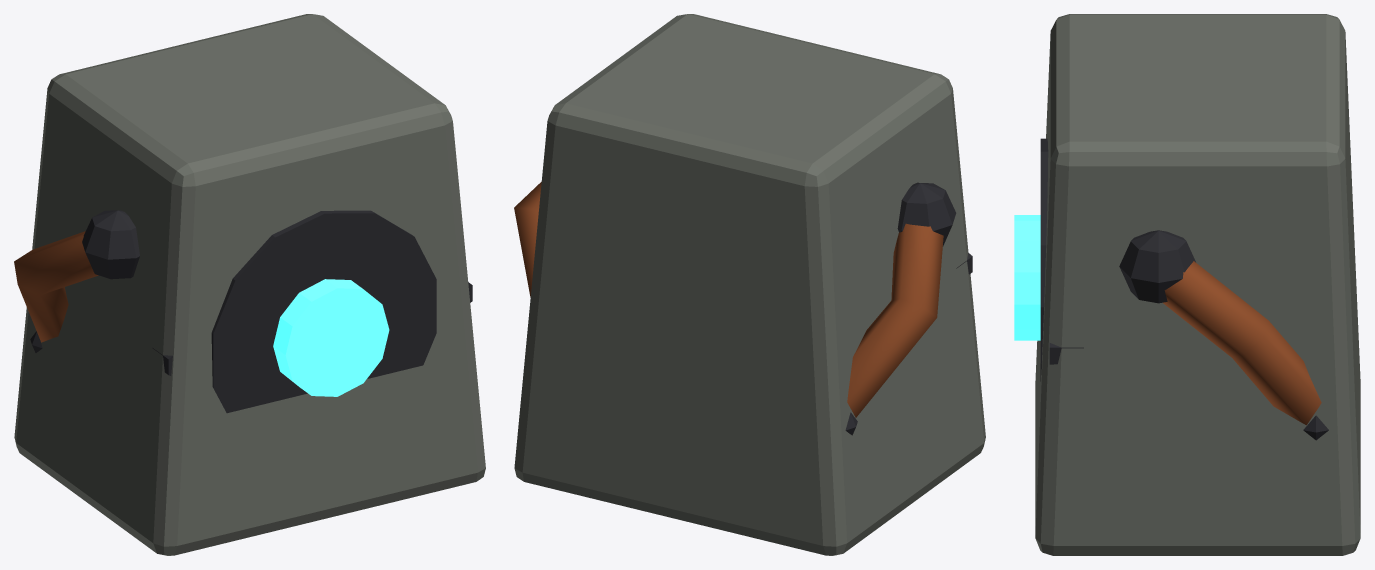
3 renders of one model, left to right at view 1: azimuth 30°, elevation 25°; view 2: azimuth 150°, elevation 25°; view 3: azimuth 270°, elevation 25°, orthographic. The views are drawn at different scales.
Parts seen in each view (by area): view 1: co_null; view 2: co_null; view 3: co_null.
Boxes of the visible parts, x1,y1,x2,y2 form: co_null: (14,14,485,555); co_null: (514,14,985,555); co_null: (1014,14,1360,555).
Bounding box in the file's own units: 0.167 × 0.1444 × 0.1135.
